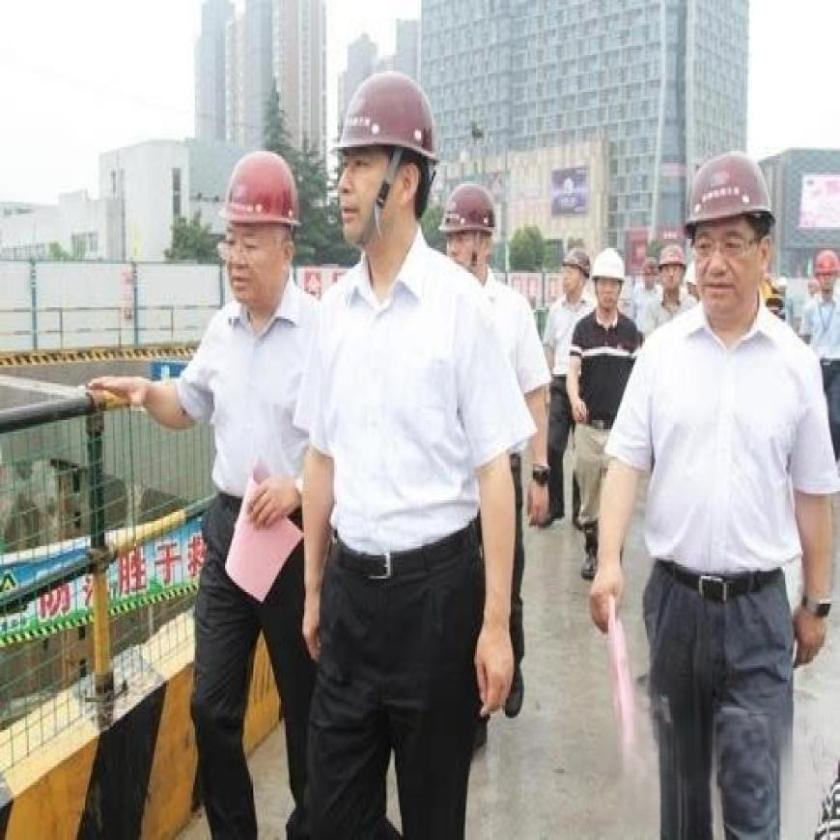Con_casco: (326, 71, 441, 259), (679, 146, 777, 334), (210, 146, 308, 319), (437, 179, 502, 296), (591, 242, 628, 322)
